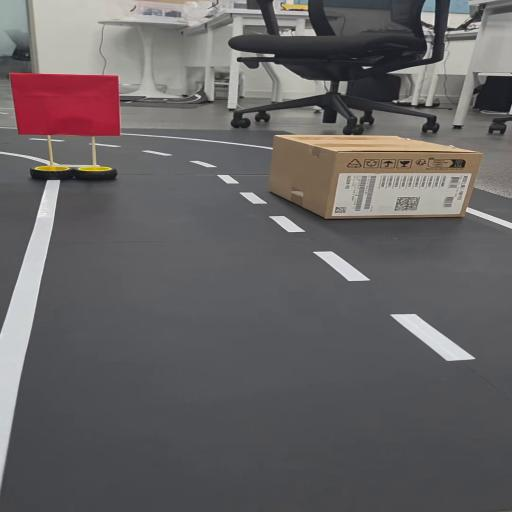Box: (270, 130, 491, 230)
Sign_A: (3, 73, 140, 194)
